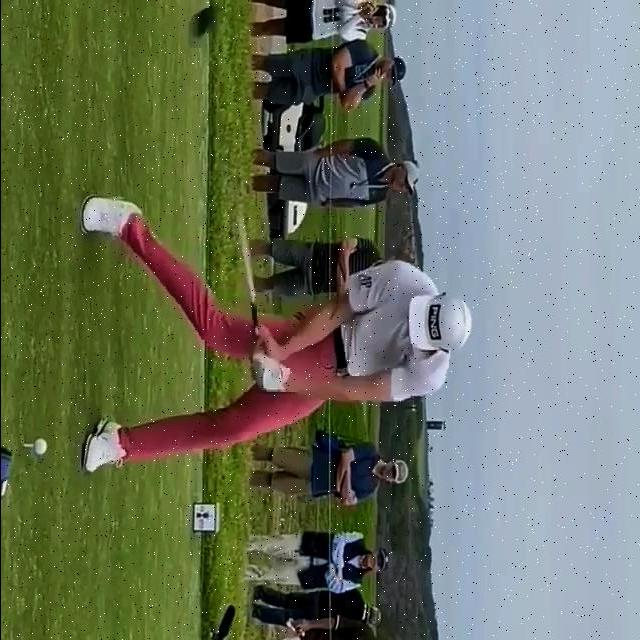golf ball: (33, 438, 46, 455)
golf club-handle: (187, 6, 256, 327)
golf club-head: (187, 6, 217, 38)
